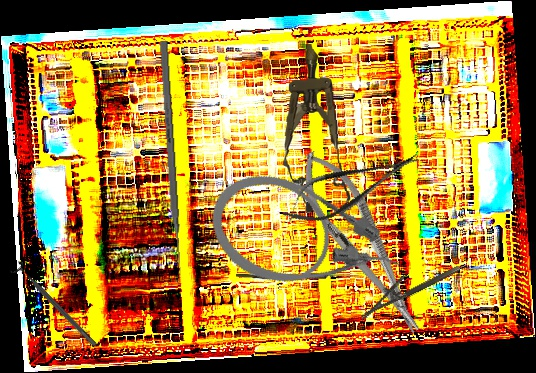Cannula: (194, 156, 414, 326)
Fixation Ring: (8, 259, 102, 352)
Micro Scissor: (273, 137, 429, 237)
Needle Holder: (285, 140, 438, 346), (352, 252, 462, 320)
Pusher: (158, 40, 185, 279)
Speculum: (275, 41, 355, 215)
Surgical Spoon: (235, 271, 360, 281)
